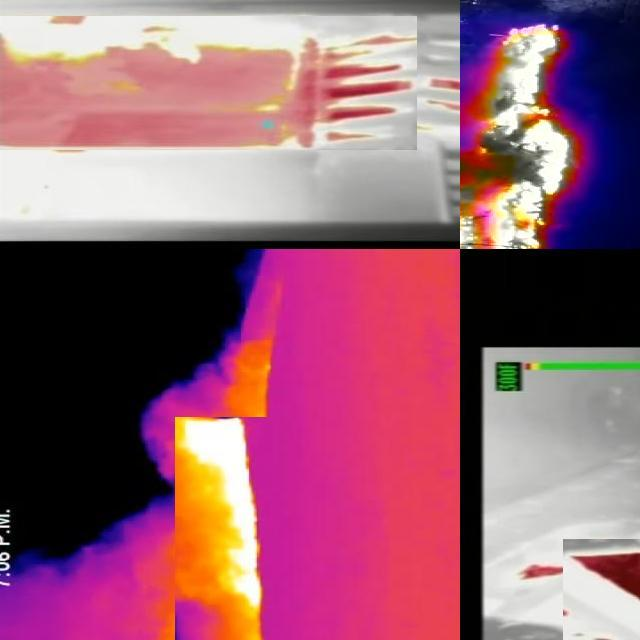fire: (1, 17, 417, 151), (461, 16, 574, 250), (175, 418, 279, 640)
